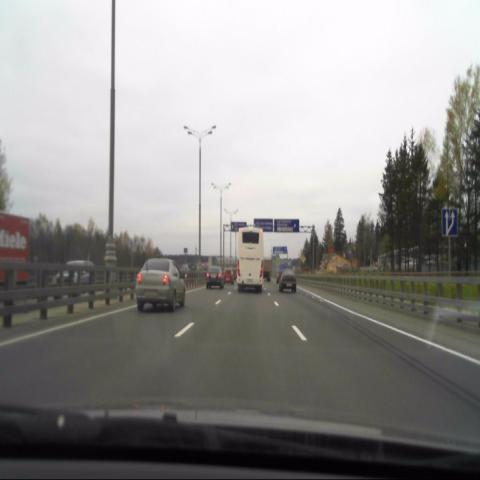5_15_3: (442, 211, 453, 233)
